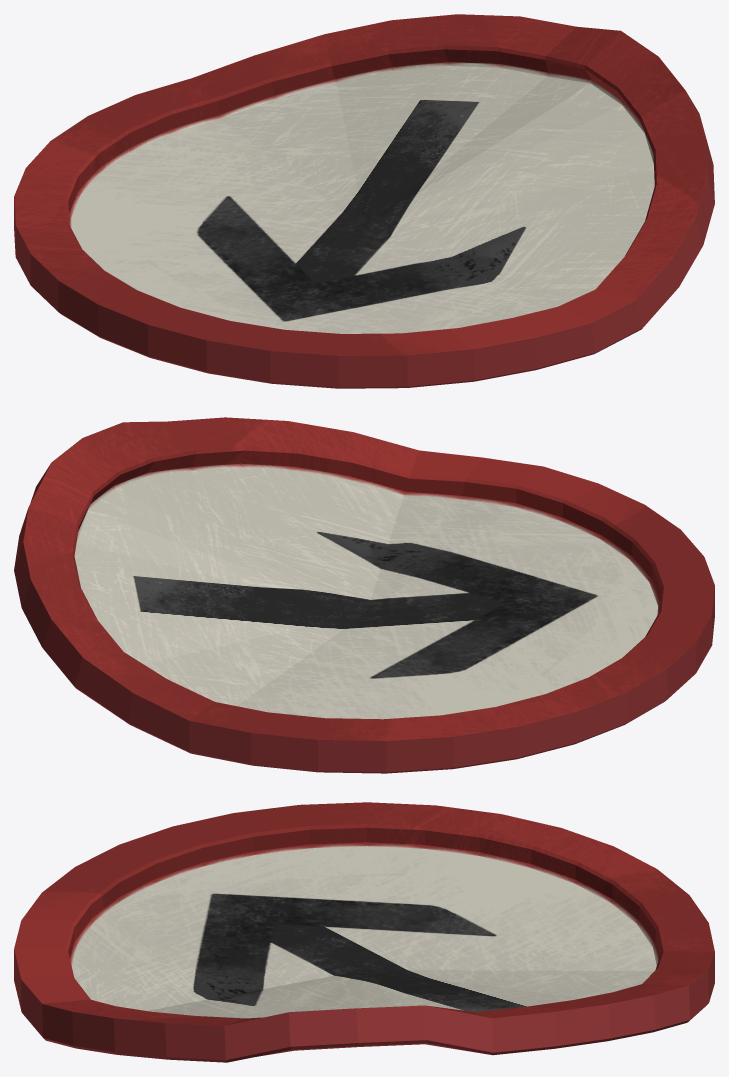
3 views of the same model, one above another, from view 1: azimuth 30°, elevation 25°; view 2: azimuth 150°, elevation 25°; view 3: azimuth 270°, elevation 25° (orthographic).
Visible parts, largest first — view 1: Cylinder.071; view 2: Cylinder.071; view 3: Cylinder.071.
Boxes of the visible parts, bbox=[...] form: Cylinder.071: bbox=[14, 14, 714, 388]; Cylinder.071: bbox=[14, 417, 714, 773]; Cylinder.071: bbox=[14, 802, 714, 1062].
Size of the model in its own units: 200 by 37.9 by 200.
3 materials, 1 textured.
